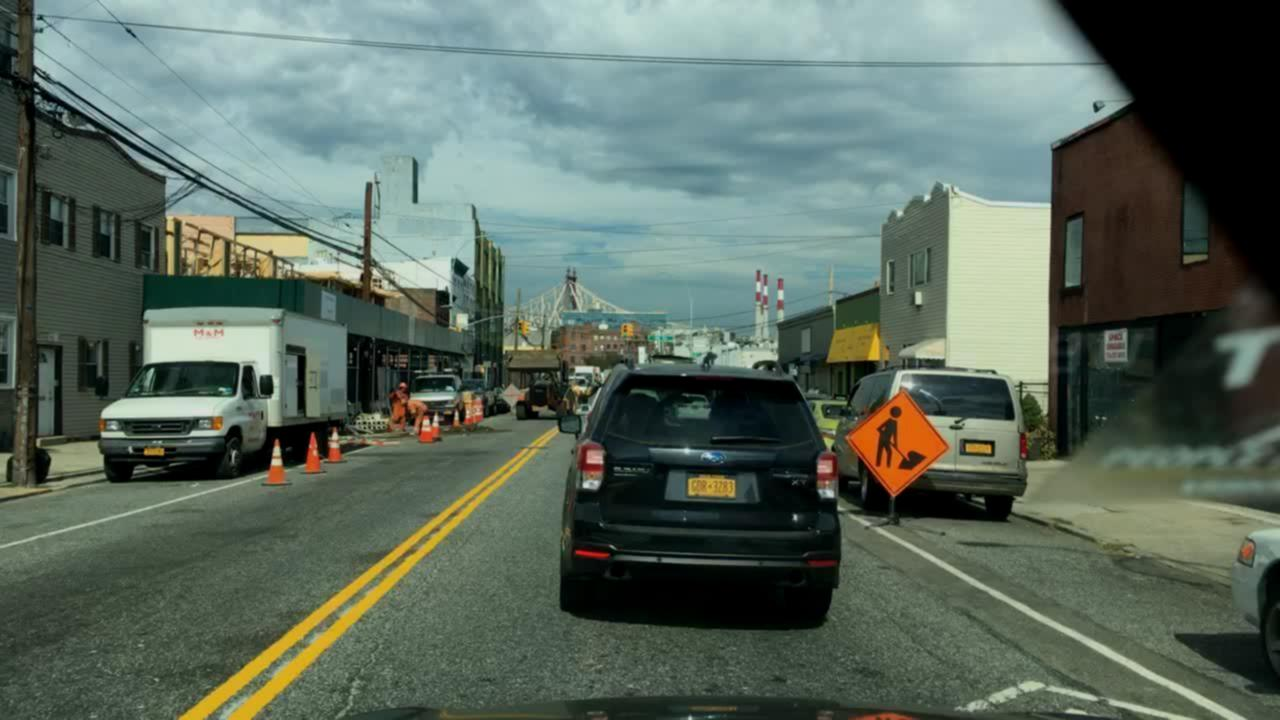subaru: (696, 446, 732, 467)
